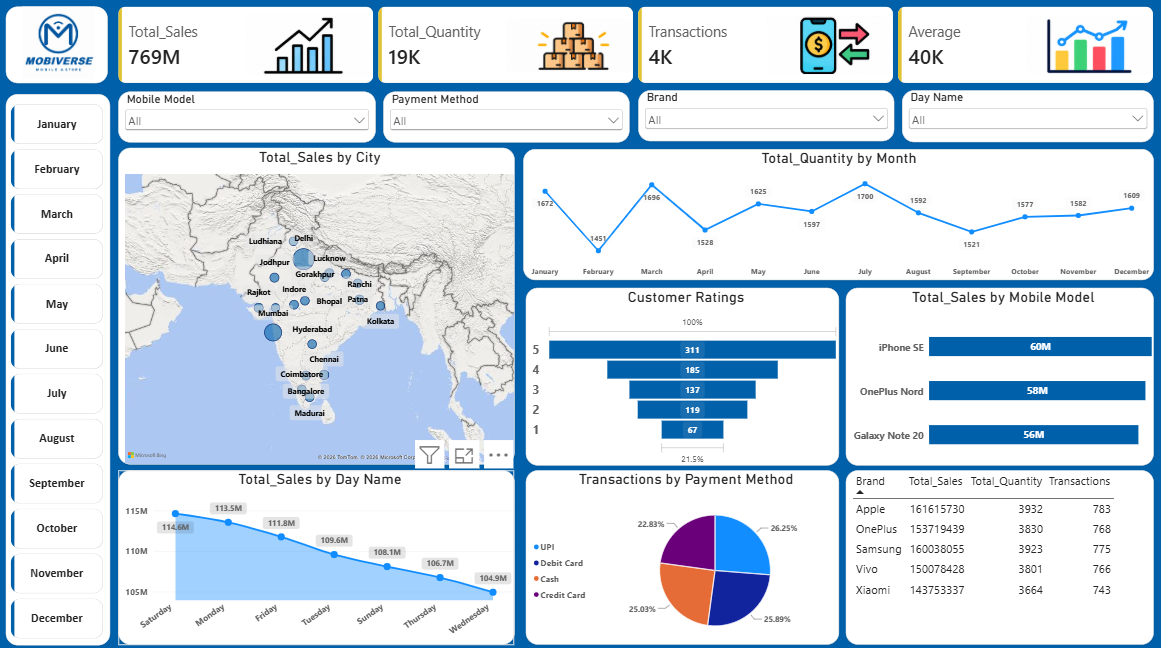

The page's visual inventory and layout, read from the dashboard file:
{"tool":"powerbi","page":{"name":"Page 1","canvas":[1920,1080],"ordinal":0},"visuals":[{"type":"shape","box":[14,12,168,126],"z":0},{"type":"shape","box":[14,156,172,908],"z":2000},{"type":"advancedSlicerVisual","fields":{"Values":["Sales_Data.Date.Variation.Date Hierarchy.Month"]},"box":[23.6,172.7,152.7,887.3],"z":3000},{"type":"map","fields":{"Category":["Sales_Data.City"],"Size":["Sales_Data.Total_Sales"]},"box":[200,245.5,652.7,521.8],"z":4000},{"type":"lineChart","fields":{"Category":["Sales_Data.Date.Variation.Date Hierarchy.Month","Sales_Data.Date.Variation.Date Hierarchy.Day"],"Y":["Sales_Data.Total_Quantity"]},"box":[867.3,247.3,1038.2,216.4],"z":5000},{"type":"barChart","fields":{"Category":["Sales_Data.Mobile Model"],"Y":["Sales_Data.Total_Sales"]},"box":[1398.2,474.5,507.3,292.7],"z":6000},{"type":"pieChart","fields":{"Category":["Sales_Data.Payment Method"],"Y":["Sales_Data.Total_Transactions"]},"box":[870.9,776.4,516.4,287.3],"z":7000},{"type":"funnel","title":"Customer Ratings","fields":{"Category":["Sales_Data.Customer Ratings"],"Y":["CountNonNull(Sales_Data.Customer Ratings)"]},"box":[870.9,474.5,516.4,292.7],"z":8000},{"type":"areaChart","fields":{"Category":["Sales_Data.Day Name"],"Y":["Sales_Data.Total_Sales"]},"box":[200,776.4,652.7,287.3],"z":9000},{"type":"tableEx","fields":{"Values":["Sales_Data.Brand","Sales_Data.Total_Sales","Sales_Data.Total_Quantity","Sales_Data.Total_Transactions"]},"box":[1398.2,776.4,507.3,287.3],"z":10000},{"type":"slicer","fields":{"Values":["Sales_Data.Mobile Model"]},"box":[200,152.7,423.6,83.6],"z":11000},{"type":"slicer","fields":{"Values":["Sales_Data.Payment Method"]},"box":[636.4,152.7,405.5,83.6],"z":12000},{"type":"slicer","fields":{"Values":["Sales_Data.Brand"]},"box":[1056.4,150.9,421.8,83.6],"z":13000},{"type":"slicer","fields":{"Values":["Sales_Data.Day Name"]},"box":[1490.9,150.9,414.5,85.5],"z":14000},{"type":"cardVisual","fields":{"Data":["Sales_Data.Total_Sales","Sales_Data.Total_Quantity","Sales_Data.Total_Transactions","Sales_Data.Avarage"]},"box":[200,12,1706,126],"z":15000},{"type":"image","box":[10.3,12.3,181.1,119.4],"z":16000}]}

Visuals, with their boxes in screenshot pixels (x1, y1, x2, y2), scaled from the page's 1920x1080 canvas onto the 1161x648 screenshot:
shape: {"x1": 8, "y1": 7, "x2": 110, "y2": 83}
shape: {"x1": 8, "y1": 94, "x2": 112, "y2": 638}
advancedSlicerVisual - Sales_Data.Date.Variation.Date Hierarchy.Month: {"x1": 14, "y1": 104, "x2": 107, "y2": 636}
map - Sales_Data.City x Sales_Data.Total_Sales: {"x1": 121, "y1": 147, "x2": 516, "y2": 460}
lineChart - Sales_Data.Date.Variation.Date Hierarchy.Month x Sales_Data.Date.Variation.Date Hierarchy.Day: {"x1": 524, "y1": 148, "x2": 1152, "y2": 278}
barChart - Sales_Data.Mobile Model x Sales_Data.Total_Sales: {"x1": 845, "y1": 285, "x2": 1152, "y2": 460}
pieChart - Sales_Data.Payment Method x Sales_Data.Total_Transactions: {"x1": 527, "y1": 466, "x2": 839, "y2": 638}
"Customer Ratings" funnel: {"x1": 527, "y1": 285, "x2": 839, "y2": 460}
areaChart - Sales_Data.Day Name x Sales_Data.Total_Sales: {"x1": 121, "y1": 466, "x2": 516, "y2": 638}
tableEx - Sales_Data.Brand x Sales_Data.Total_Sales: {"x1": 845, "y1": 466, "x2": 1152, "y2": 638}
slicer - Sales_Data.Mobile Model: {"x1": 121, "y1": 92, "x2": 377, "y2": 142}
slicer - Sales_Data.Payment Method: {"x1": 385, "y1": 92, "x2": 630, "y2": 142}
slicer - Sales_Data.Brand: {"x1": 639, "y1": 91, "x2": 894, "y2": 141}
slicer - Sales_Data.Day Name: {"x1": 902, "y1": 91, "x2": 1152, "y2": 142}
cardVisual - Sales_Data.Total_Sales x Sales_Data.Total_Quantity: {"x1": 121, "y1": 7, "x2": 1153, "y2": 83}
image: {"x1": 6, "y1": 7, "x2": 116, "y2": 79}
